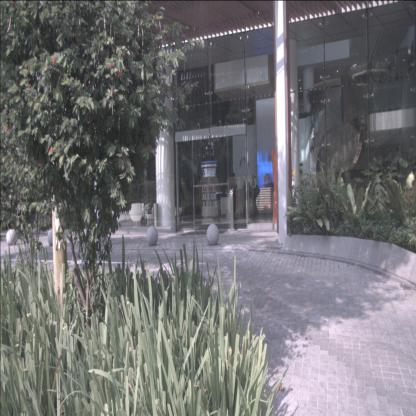human-pedestrian-adult: (251, 174, 260, 216), (231, 172, 238, 220), (243, 173, 250, 217)
